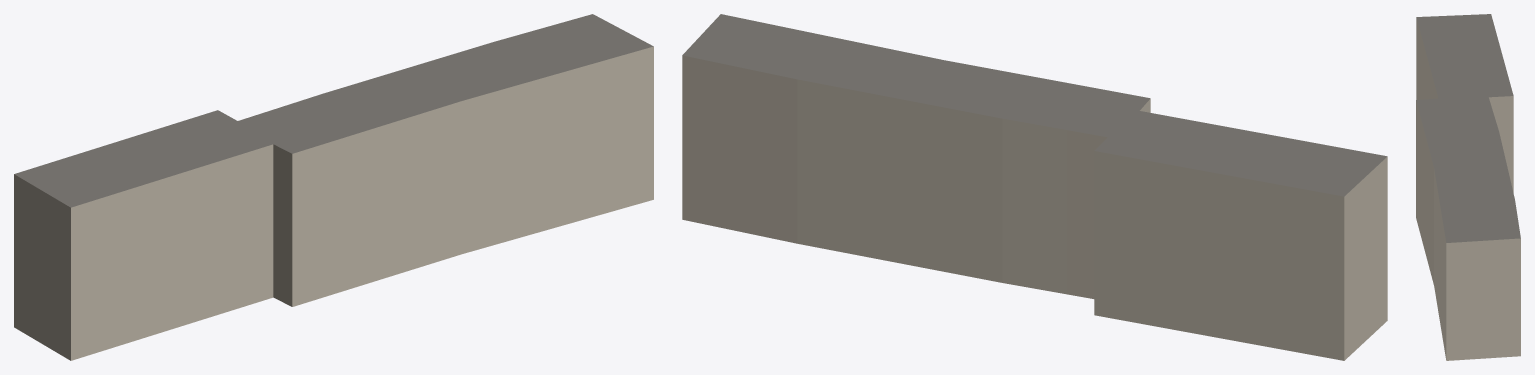
3 views of the same model, side by side, from view 1: azimuth 30°, elevation 25°; view 2: azimuth 150°, elevation 25°; view 3: azimuth 270°, elevation 25° (orthographic). The views are drawn at different scales.
Parts seen in each view (by area): view 1: HP-w1159141673; view 2: HP-w1159141673; view 3: HP-w1159141673.
Part boxes in pixels (<box>): HP-w1159141673: <box>14,14,653,360</box>; HP-w1159141673: <box>682,14,1387,360</box>; HP-w1159141673: <box>1416,14,1520,360</box>.
Size of the model in its own units: 75.06 by 18 by 14.52.
